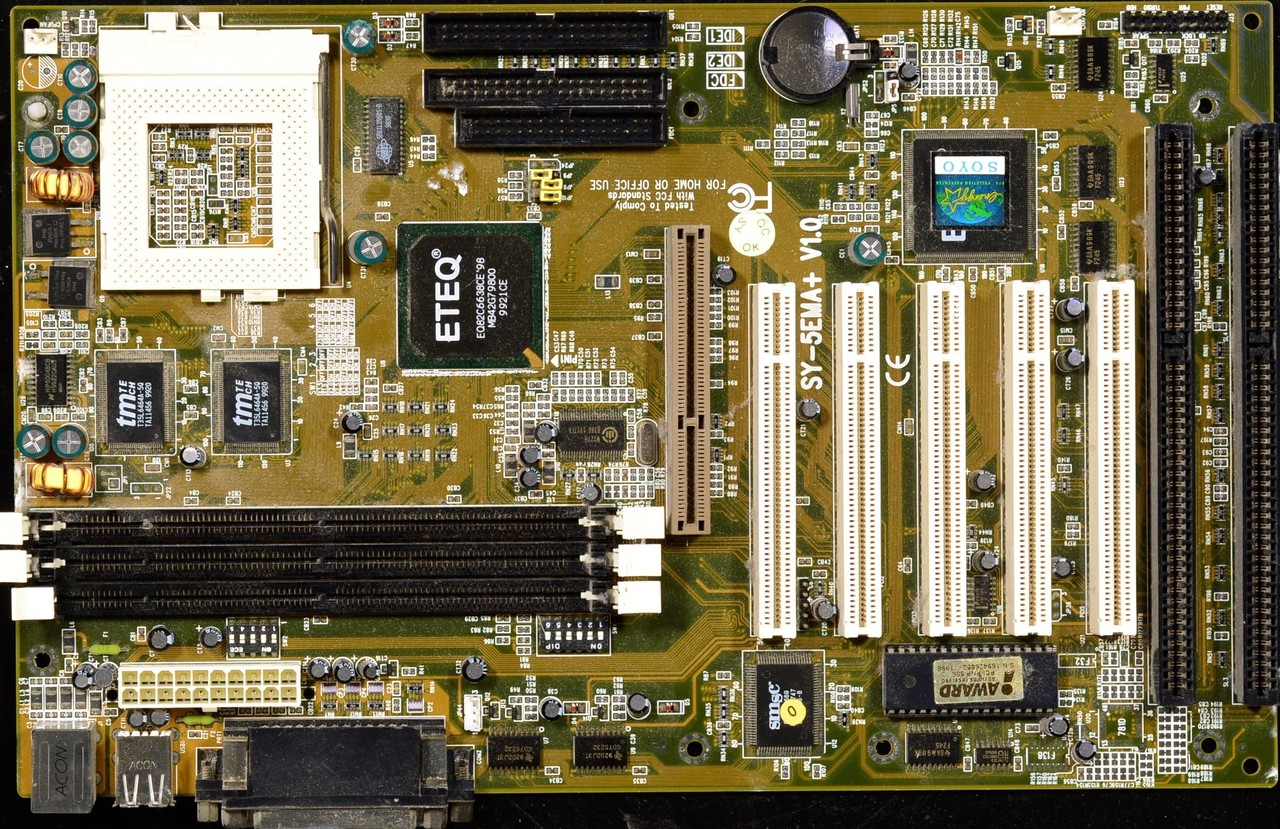Capacitor: (354, 157, 364, 173), (644, 250, 660, 260), (74, 340, 90, 349), (364, 423, 372, 440), (187, 730, 202, 739), (929, 81, 938, 96), (1057, 225, 1066, 240), (905, 419, 914, 434), (922, 80, 930, 96), (947, 81, 955, 97), (27, 406, 35, 422), (447, 495, 461, 504), (814, 569, 826, 579), (496, 615, 511, 623), (138, 626, 146, 641), (65, 658, 73, 673), (59, 678, 74, 686), (844, 143, 859, 151), (505, 412, 522, 419), (648, 275, 661, 284), (227, 497, 241, 505), (904, 558, 912, 572), (313, 616, 329, 623), (1158, 715, 1172, 723), (1026, 724, 1040, 732), (1158, 732, 1172, 740), (633, 766, 647, 774), (939, 82, 947, 96), (902, 93, 916, 101), (865, 112, 879, 120), (848, 203, 862, 211), (376, 213, 390, 221), (885, 256, 899, 264), (1071, 277, 1079, 291), (60, 330, 74, 338), (1058, 337, 1074, 344), (79, 379, 87, 393), (535, 411, 551, 418), (184, 411, 198, 419), (627, 425, 635, 439), (1214, 459, 1228, 467), (39, 412, 51, 421), (183, 498, 198, 505), (364, 403, 379, 410), (522, 411, 537, 418), (44, 676, 57, 684), (527, 212, 540, 220), (648, 300, 661, 308), (60, 340, 73, 348), (627, 410, 635, 423), (72, 413, 85, 421), (1214, 427, 1227, 435), (529, 491, 543, 498), (29, 678, 43, 685), (837, 703, 851, 710), (1158, 707, 1172, 714), (1158, 724, 1172, 731), (1159, 749, 1173, 756), (1077, 768, 1084, 782), (1154, 95, 1168, 102), (865, 172, 879, 179), (1053, 177, 1060, 191), (866, 203, 880, 210), (648, 333, 662, 340), (42, 342, 56, 349), (364, 387, 378, 394), (506, 419, 518, 427), (545, 767, 558, 774), (365, 379, 378, 386), (1214, 449, 1227, 456), (1213, 485, 1228, 491), (505, 437, 520, 443), (966, 501, 978, 508), (1052, 84, 1064, 91), (384, 384, 396, 391), (184, 386, 198, 392), (504, 445, 516, 452), (627, 443, 634, 455), (1214, 494, 1227, 500), (394, 682, 400, 695), (619, 371, 625, 384), (1080, 202, 1091, 209), (866, 130, 878, 136), (628, 389, 634, 401), (522, 402, 534, 408)
Connector: (198, 719, 476, 829), (1144, 122, 1196, 702), (1230, 117, 1280, 704), (0, 546, 660, 583), (11, 583, 652, 621), (6, 507, 665, 540), (914, 285, 967, 642), (834, 284, 886, 643), (1086, 275, 1137, 637), (1005, 283, 1054, 636), (751, 285, 798, 642), (666, 223, 713, 536), (422, 66, 669, 107), (418, 14, 671, 50), (454, 108, 664, 149), (115, 661, 302, 702), (33, 721, 97, 815), (117, 731, 178, 808), (1119, 11, 1228, 30)
IC: (397, 223, 546, 371), (902, 129, 1036, 264), (883, 643, 1059, 713), (743, 650, 826, 758), (93, 349, 175, 455), (212, 350, 292, 454), (555, 409, 625, 460), (362, 95, 406, 176), (486, 725, 543, 777), (25, 352, 77, 409), (1070, 219, 1118, 278), (573, 724, 629, 774), (905, 725, 961, 771), (1070, 146, 1118, 199), (1069, 37, 1116, 89), (974, 740, 1011, 772), (967, 575, 997, 612), (1149, 54, 1178, 90)
Resistor: (983, 616, 998, 627), (1213, 322, 1229, 331), (966, 616, 980, 626), (24, 330, 41, 338), (1213, 592, 1228, 601), (774, 150, 789, 159), (518, 635, 531, 645), (1056, 464, 1072, 472), (496, 636, 510, 645), (775, 129, 789, 138), (105, 328, 114, 342), (1124, 39, 1138, 48), (62, 43, 70, 58), (938, 49, 946, 64), (781, 764, 789, 779), (404, 18, 419, 26), (568, 371, 576, 386), (560, 371, 568, 386), (1213, 438, 1228, 446), (517, 625, 530, 634), (1173, 706, 1186, 715), (1102, 767, 1111, 780), (988, 81, 997, 94), (550, 372, 559, 385), (528, 381, 541, 390), (71, 43, 79, 57), (1065, 522, 1081, 529), (930, 50, 938, 64), (1185, 55, 1199, 63), (497, 625, 511, 633), (595, 695, 609, 703), (522, 696, 538, 703), (612, 713, 626, 721), (1173, 724, 1187, 732), (922, 67, 930, 81), (1158, 740, 1172, 748), (1173, 749, 1187, 757), (1173, 757, 1187, 765), (1158, 757, 1172, 765), (1111, 767, 1119, 781), (955, 81, 963, 95), (864, 121, 878, 129), (791, 140, 805, 148), (756, 140, 770, 148), (834, 203, 848, 211), (865, 225, 879, 233), (1038, 20, 1046, 34), (708, 312, 722, 320), (42, 320, 56, 328), (75, 330, 89, 338), (709, 355, 723, 363), (576, 372, 584, 386), (593, 389, 601, 403), (536, 394, 552, 401), (1066, 531, 1081, 538), (716, 672, 731, 679), (836, 686, 851, 693), (1095, 752, 1102, 767), (982, 81, 989, 96), (421, 153, 436, 160), (509, 193, 524, 200), (1006, 17, 1013, 32), (59, 320, 74, 327), (708, 321, 723, 328), (1215, 631, 1228, 639), (402, 667, 415, 675), (613, 695, 626, 703), (1173, 715, 1186, 723), (947, 67, 955, 80), (812, 764, 820, 777), (792, 119, 805, 127), (865, 142, 878, 150), (709, 347, 722, 355), (709, 380, 722, 388), (618, 388, 626, 401), (610, 389, 618, 402), (55, 413, 68, 421), (1149, 40, 1162, 48), (517, 648, 531, 655), (1058, 699, 1072, 706), (393, 698, 400, 712), (981, 66, 988, 80), (965, 67, 972, 81), (1173, 741, 1187, 748), (1124, 72, 1138, 79), (1111, 752, 1118, 766), (1120, 752, 1127, 766), (1158, 766, 1172, 773), (1120, 767, 1127, 781), (422, 145, 436, 152), (509, 171, 523, 178), (1098, 22, 1112, 29), (81, 19, 88, 33), (42, 331, 56, 338), (405, 32, 419, 39), (686, 34, 700, 41), (593, 371, 600, 385), (505, 394, 519, 401), (505, 403, 519, 410), (537, 403, 551, 410), (1167, 40, 1181, 47), (1174, 749, 1186, 757), (1103, 753, 1111, 765), (585, 371, 593, 383), (81, 43, 88, 56), (947, 50, 954, 63), (1058, 691, 1071, 698), (837, 694, 850, 701), (939, 67, 946, 80), (973, 67, 980, 80), (931, 67, 938, 80), (1173, 732, 1186, 739), (1128, 753, 1135, 766), (1140, 762, 1153, 769), (1174, 766, 1187, 773), (1094, 768, 1101, 781), (964, 82, 971, 95), (422, 136, 435, 143), (792, 151, 805, 158), (509, 182, 522, 189), (849, 213, 862, 220), (866, 214, 879, 221), (687, 23, 700, 30), (709, 288, 722, 295), (648, 313, 661, 320), (505, 386, 518, 393), (602, 389, 609, 402), (568, 389, 575, 402), (351, 404, 364, 411), (505, 428, 518, 435), (974, 49, 980, 64), (1173, 766, 1188, 772), (1184, 40, 1199, 46), (510, 696, 522, 703), (524, 713, 538, 719), (1139, 754, 1153, 760), (1173, 758, 1187, 764), (1129, 767, 1135, 781), (1124, 82, 1138, 88), (1125, 90, 1137, 97), (792, 130, 804, 137), (709, 297, 723, 303), (710, 338, 722, 345), (25, 342, 39, 348), (964, 51, 970, 64), (1140, 770, 1153, 776), (1087, 768, 1093, 781), (775, 141, 788, 147), (90, 20, 96, 33), (709, 305, 722, 311), (365, 396, 378, 402), (922, 51, 929, 62), (885, 36, 896, 43), (516, 616, 531, 621), (611, 372, 617, 384), (561, 389, 566, 403), (973, 83, 979, 94), (586, 389, 592, 400), (525, 706, 538, 711), (577, 389, 582, 402), (614, 705, 625, 710)
Transistor/Diode: (23, 209, 96, 258), (23, 260, 98, 307), (61, 17, 79, 36), (1123, 51, 1142, 68), (505, 704, 522, 723), (1016, 16, 1033, 35), (999, 52, 1016, 70), (484, 700, 499, 720), (592, 704, 609, 720), (382, 660, 396, 679)
